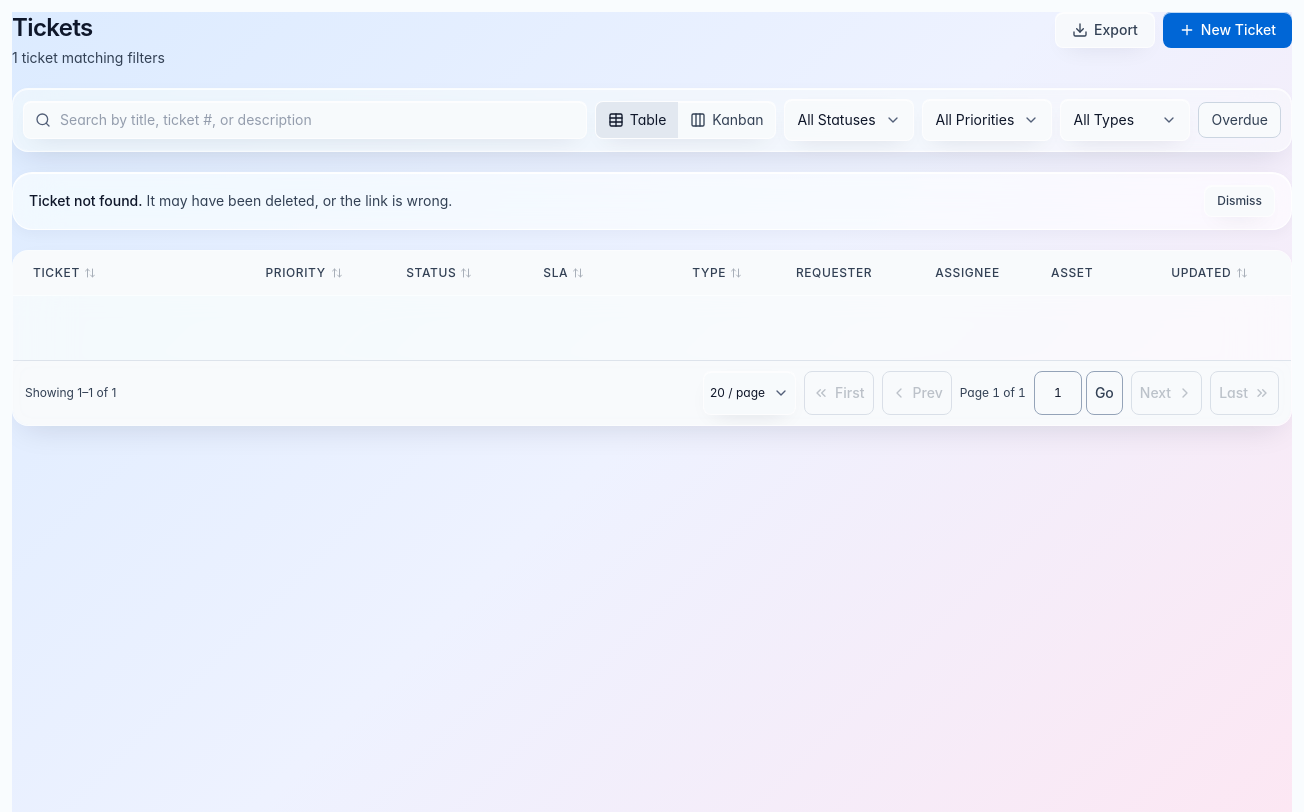
Test: Tickets FE1 fixes (TFE-01, TFE-08, TFE-03) › TFE-08: bad ?open= id shows a "Ticket not found" notice, no drawer; Dismiss clears it
Expected: the text "Ticket not found." is shown, [29,192,142,209]
Click the button "Dismiss" at (1240, 201), box [1204,185,1275,217]
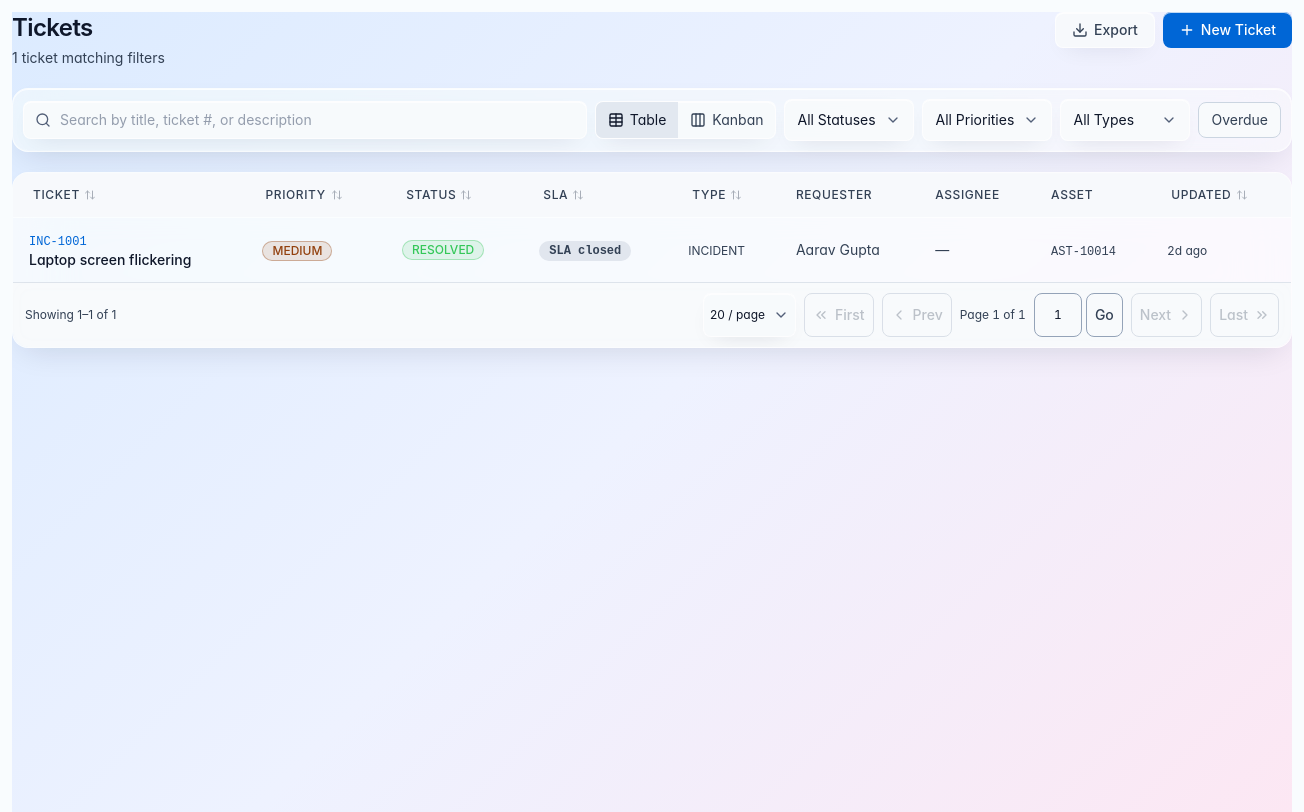
Result: the text "Ticket not found" is gone
